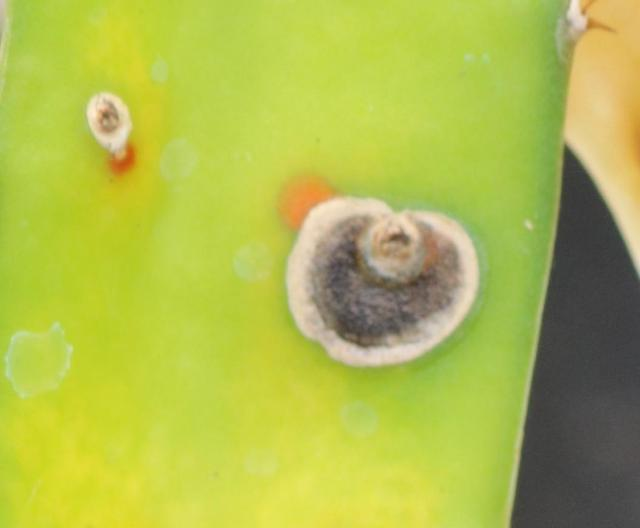stemcanker: (1, 2, 569, 528), (279, 191, 487, 375), (80, 89, 139, 179)
